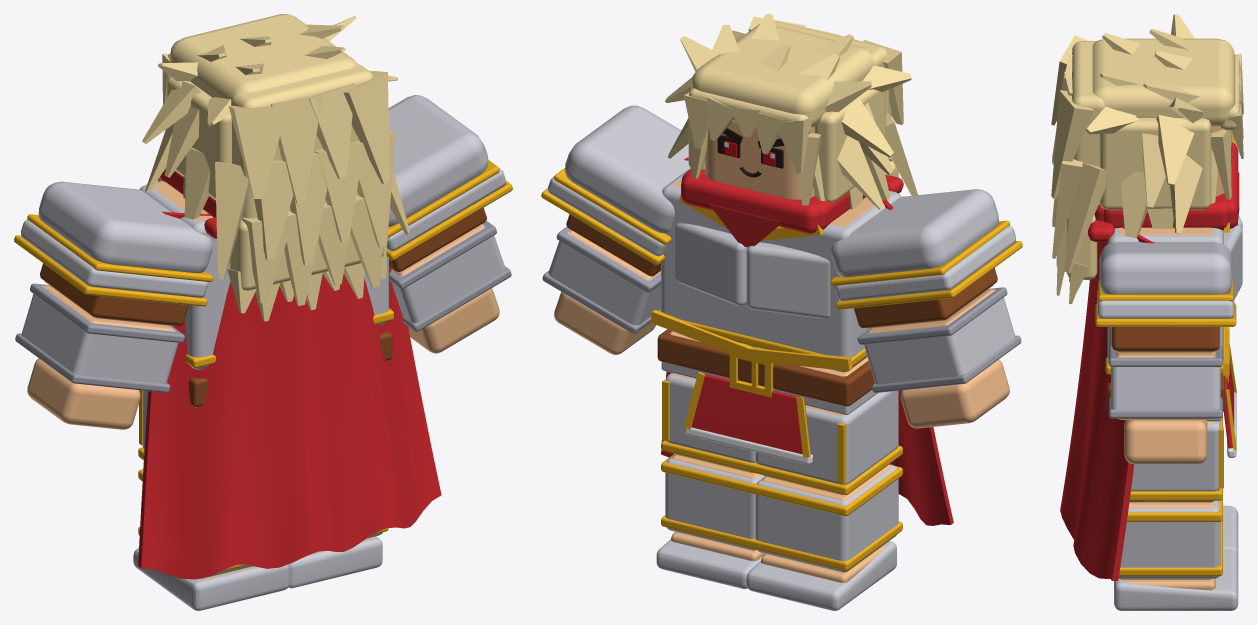
Rendered from warden_female.glb.
The picture shows the model from 3 angles, left to right: view 1: azimuth 30°, elevation 25°; view 2: azimuth 150°, elevation 25°; view 3: azimuth 270°, elevation 25°; orthographic projection. The views are drawn at different scales.
Visible parts, largest first — view 1: Cape_Cloth, LeftUpperArm_Pauldron, Hair_Cap, RightUpperArm_Pauldron, LeftLowerArm_Vambrace, LeftHand_Base, RightLowerArm_Vambrace, UpperTorso_Breastplate, LeftFoot_Sabaton, LeftUpperArm_Lame, Hair_Back, Hair_Lock27 (+33 smaller); view 2: UpperTorso_Breastplate, LeftUpperArm_Pauldron, RightUpperArm_Pauldron, Hair_Cap, LeftLowerLeg_Greave, LeftLowerArm_Vambrace, LeftUpperLeg_Cuisse, Skirt_Front, UpperTorso_ChestPlateLeft, LowerTorso_Belt, RightLowerLeg_Greave, UpperTorso_ChestPlateRight (+52 smaller); view 3: Cape_Cloth, Hair_Cap, RightUpperArm_Pauldron, RightLowerLeg_Greave, Hair_SideRight, RightLowerArm_Vambrace, RightFoot_Sabaton, RightHand_Base, RightUpperLeg_Cuisse, RightUpperArm_Lame, RightUpperArm_Sleeve, Hair_Lock21 (+43 smaller).
Part boxes in pixels (box(x1,y1,x2,y2)): Cape_Cloth: box(138, 211, 441, 579); LeftUpperArm_Pauldron: box(38, 181, 212, 272); Hair_Cap: box(169, 14, 357, 99); RightUpperArm_Pauldron: box(388, 95, 488, 227); LeftLowerArm_Vambrace: box(21, 285, 178, 384); LeftHand_Base: box(27, 358, 140, 429); RightLowerArm_Vambrace: box(392, 224, 505, 322); UpperTorso_Breastplate: box(139, 180, 388, 369); LeftFoot_Sabaton: box(133, 548, 289, 610); LeftUpperArm_Lame: box(21, 220, 207, 297); Hair_Back: box(231, 64, 373, 218); Hair_Lock27: box(228, 106, 287, 198); UpperTorso_Breastplate: box(661, 168, 901, 366); LeftUpperArm_Pauldron: box(830, 189, 998, 277); RightUpperArm_Pauldron: box(565, 105, 689, 233); Hair_Cap: box(691, 25, 873, 127); LeftLowerLeg_Greave: box(755, 464, 898, 572); LeftLowerArm_Vambrace: box(864, 289, 1015, 384); LeftUpperLeg_Cuisse: box(755, 390, 898, 484); Skirt_Front: box(691, 373, 806, 454); UpperTorso_ChestPlateLeft: box(746, 242, 830, 318); LowerTorso_Belt: box(657, 329, 874, 406); RightLowerLeg_Greave: box(665, 454, 764, 550); UpperTorso_ChestPlateRight: box(675, 223, 747, 306); Cape_Cloth: box(1060, 227, 1154, 580); Hair_Cap: box(1092, 38, 1235, 126); RightUpperArm_Pauldron: box(1099, 242, 1232, 294); RightLowerLeg_Greave: box(1118, 500, 1220, 578); Hair_SideRight: box(1099, 118, 1211, 209); RightLowerArm_Vambrace: box(1111, 351, 1220, 409); RightFoot_Sabaton: box(1114, 549, 1238, 610); RightHand_Base: box(1124, 420, 1207, 464); RightUpperLeg_Cuisse: box(1131, 421, 1220, 491); RightUpperArm_Lame: box(1097, 290, 1234, 318); RightUpperArm_Sleeve: box(1112, 327, 1219, 351); Hair_Lock21: box(1064, 163, 1107, 272).
Size of the model in its own units: 4.71 by 5.5 by 1.86.
